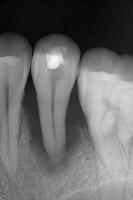Dental Caries: (22, 102, 85, 178)
